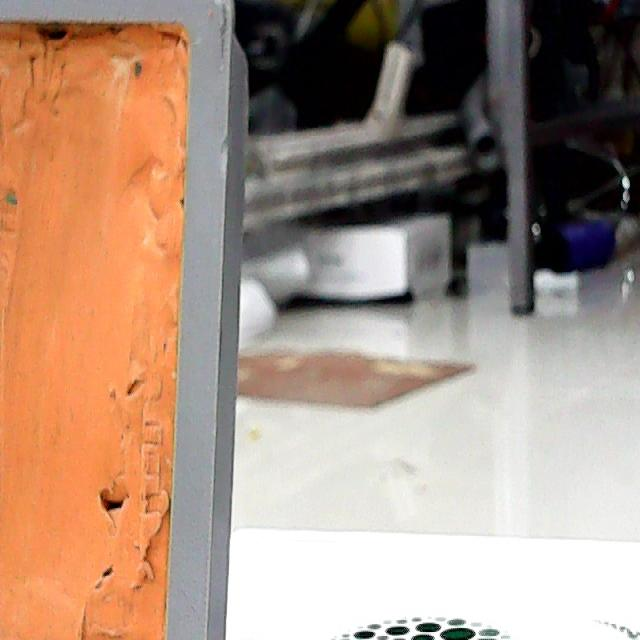block: (0, 1, 251, 640)
